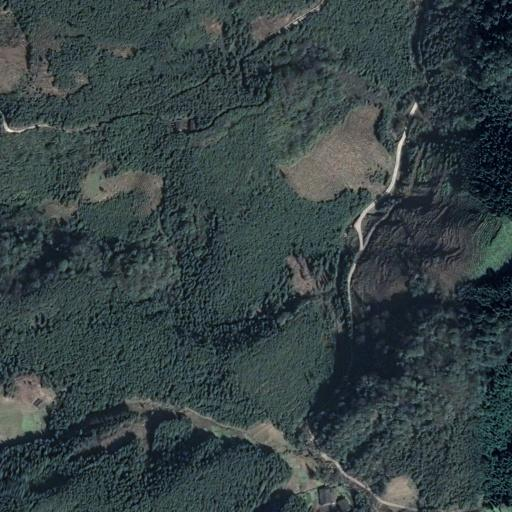landslide: (283, 98, 393, 203)
